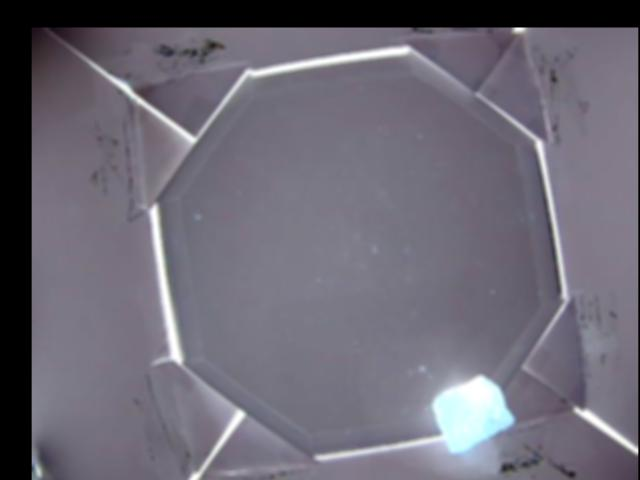Brisk: (432, 373, 514, 452)
